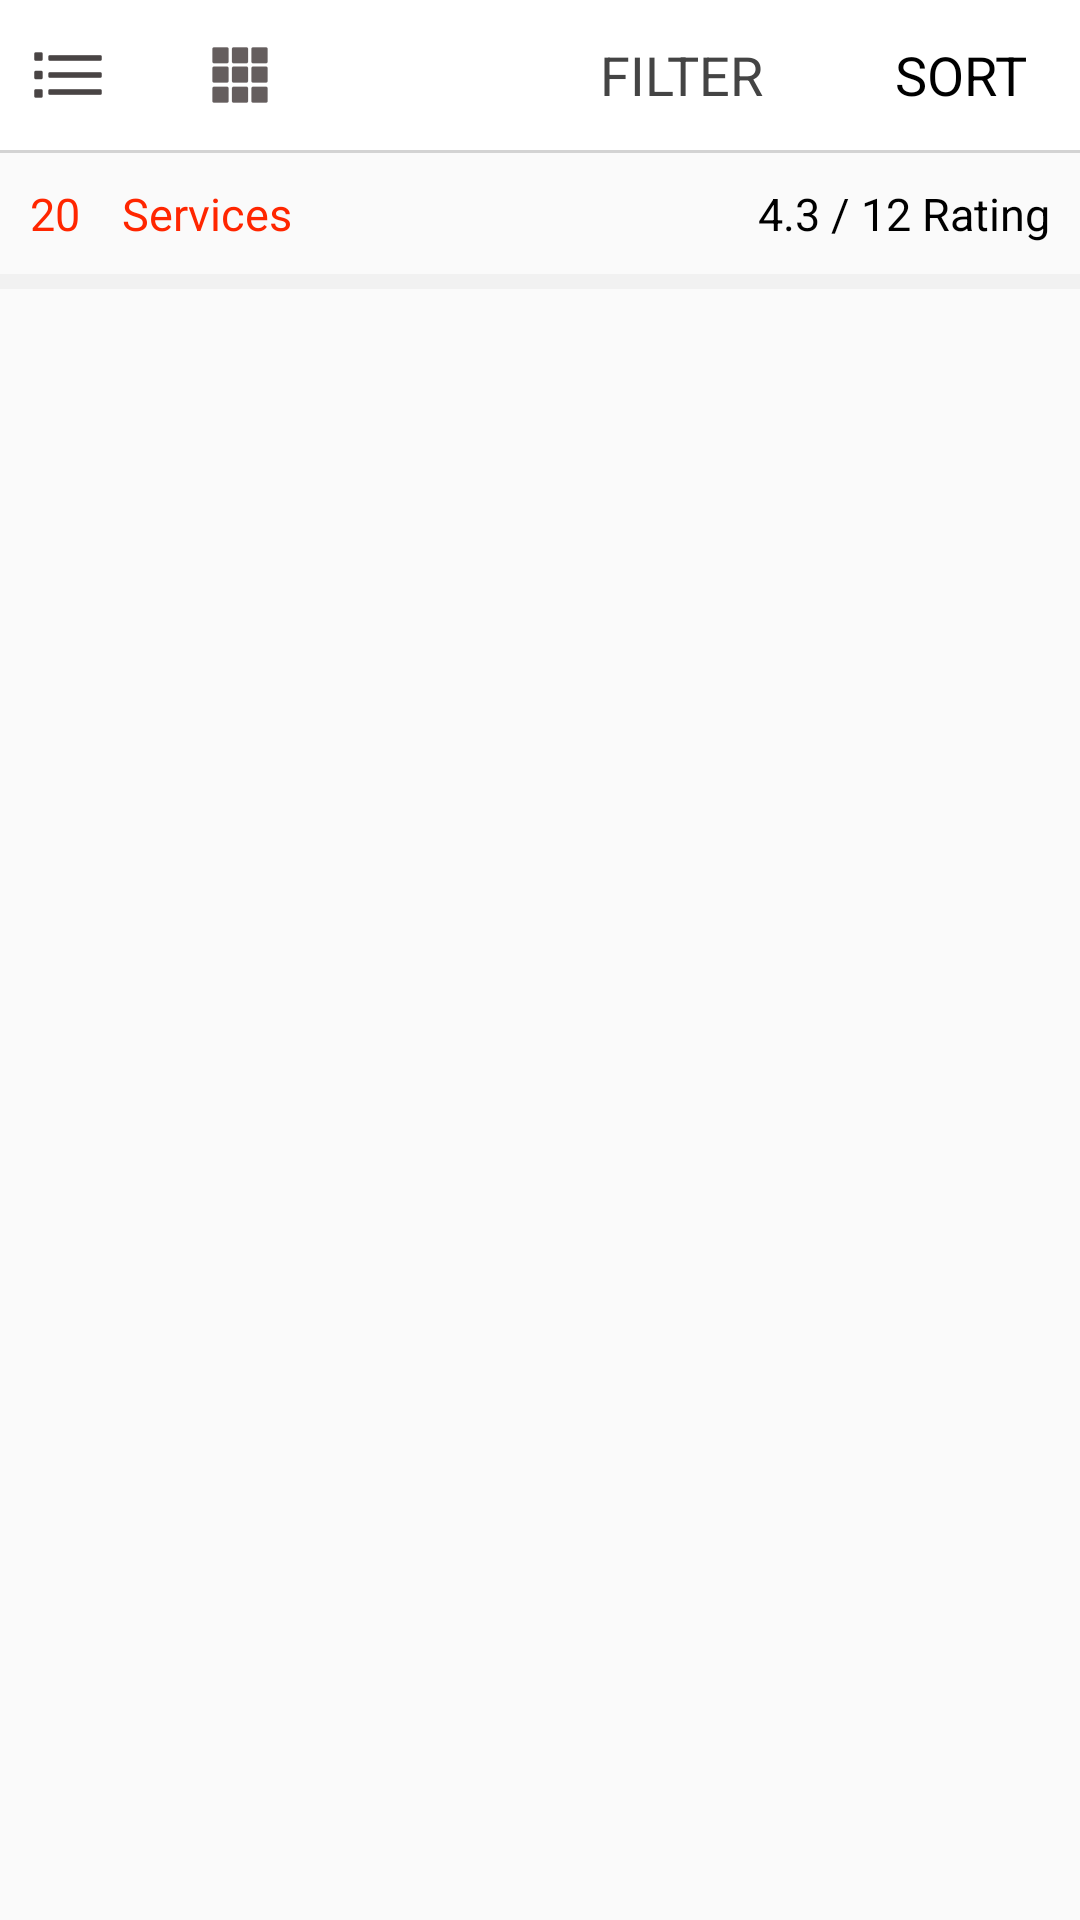

Icon bounding boxes for this 1080×1920 phone screenshot, format (x1, y1, x2, y2):
bullet list: (34, 52, 102, 98)
grid: (212, 47, 268, 103)
